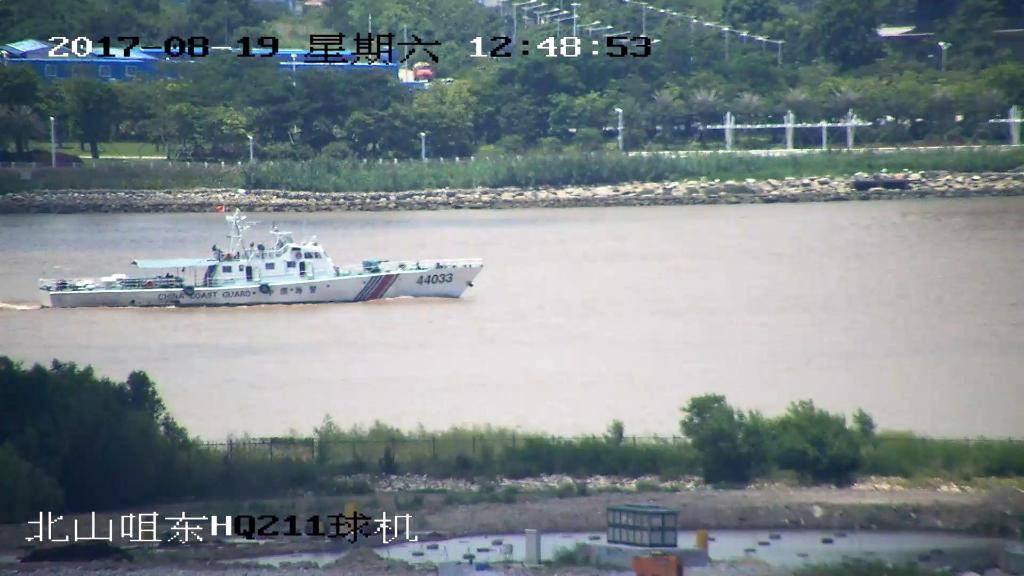Warship: (38, 190, 494, 314)
